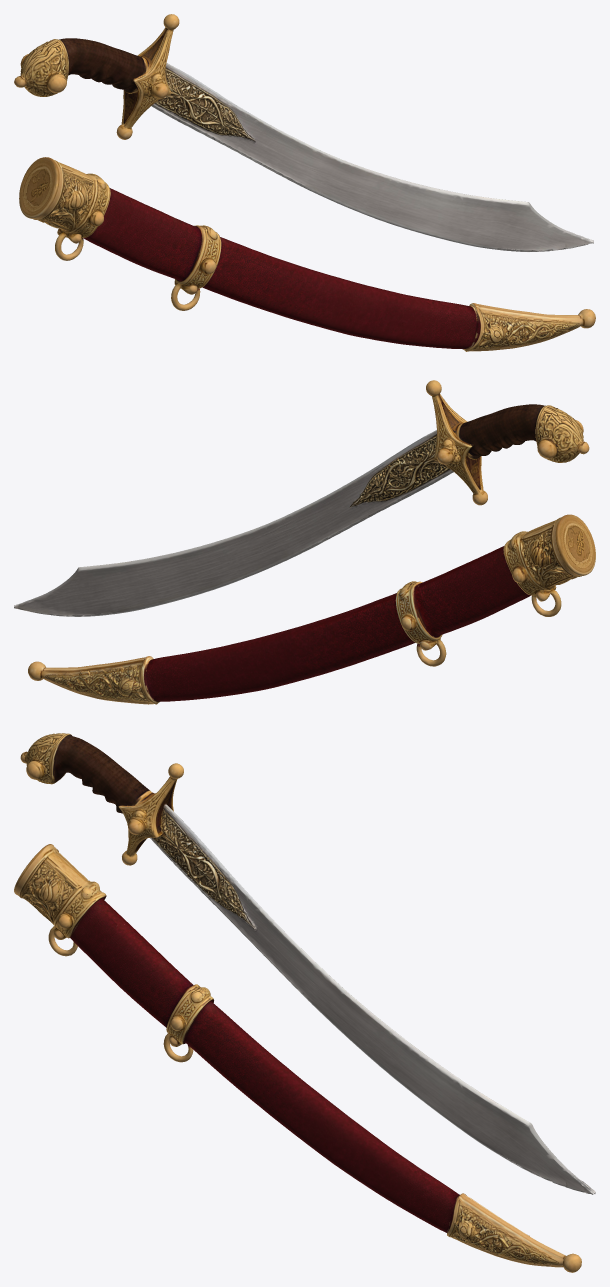
The model's file is Klasik Osmanlı süvari kılıcı.glb.
3 renders of one model, top to bottom at view 1: azimuth 30°, elevation 25°; view 2: azimuth 150°, elevation 25°; view 3: azimuth 330°, elevation 25°, orthographic.
Visible parts, largest first — view 1: tripo_node_9eac5e51-c7b1-4f00-b6cd-ec66694f2851; view 2: tripo_node_9eac5e51-c7b1-4f00-b6cd-ec66694f2851; view 3: tripo_node_9eac5e51-c7b1-4f00-b6cd-ec66694f2851.
Boxes of the visible parts, bbox=[...] form: tripo_node_9eac5e51-c7b1-4f00-b6cd-ec66694f2851: bbox=[14, 14, 595, 351]; tripo_node_9eac5e51-c7b1-4f00-b6cd-ec66694f2851: bbox=[14, 380, 595, 704]; tripo_node_9eac5e51-c7b1-4f00-b6cd-ec66694f2851: bbox=[14, 733, 595, 1272].
Size of the model in its own units: 0.9835 by 0.666 by 0.1191.
1 material, 1 textured.
